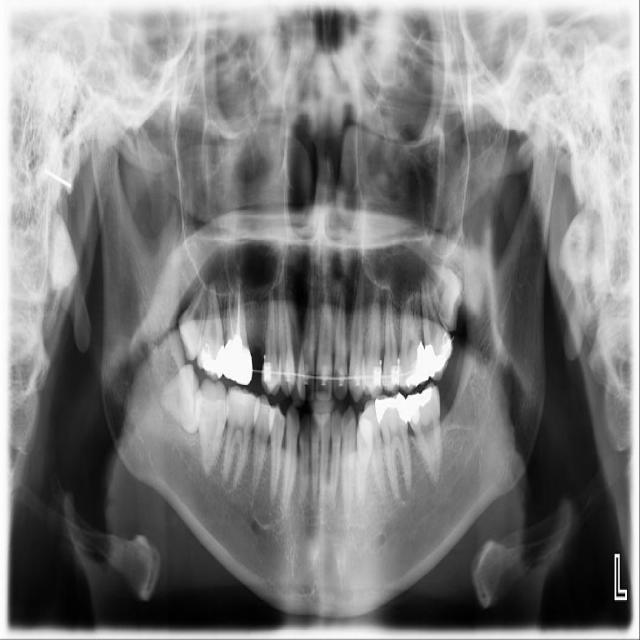3M ESPE Implant: (173, 274, 211, 363)
52: (395, 380, 454, 436), (415, 321, 462, 383), (373, 390, 411, 435), (194, 331, 227, 381), (219, 344, 255, 386), (397, 347, 429, 393)
73: (219, 276, 248, 349), (593, 571, 600, 579)
BioHorizons Implant: (417, 274, 457, 383)
BioLife Implant: (420, 254, 475, 334)
Blue Sky Bio Implant: (404, 382, 445, 486)
Caries: (194, 281, 231, 382)
Implant: (195, 376, 229, 474)
Keystone Dental Implant: (152, 361, 227, 437)
